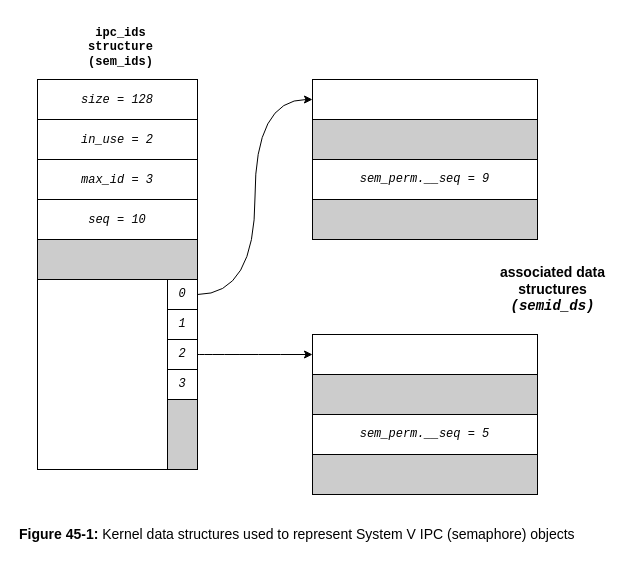
Image size: 634x566. Some labels were removed from this diagram. Here are the shapes that lost their labels. From the top down, the centre of each, then its label:
the point at 425,99: sem_perm.__key = 0x4d0731db
the point at 102,374: entries
the point at 425,354: sem_perm.__key = 0x4b079002
